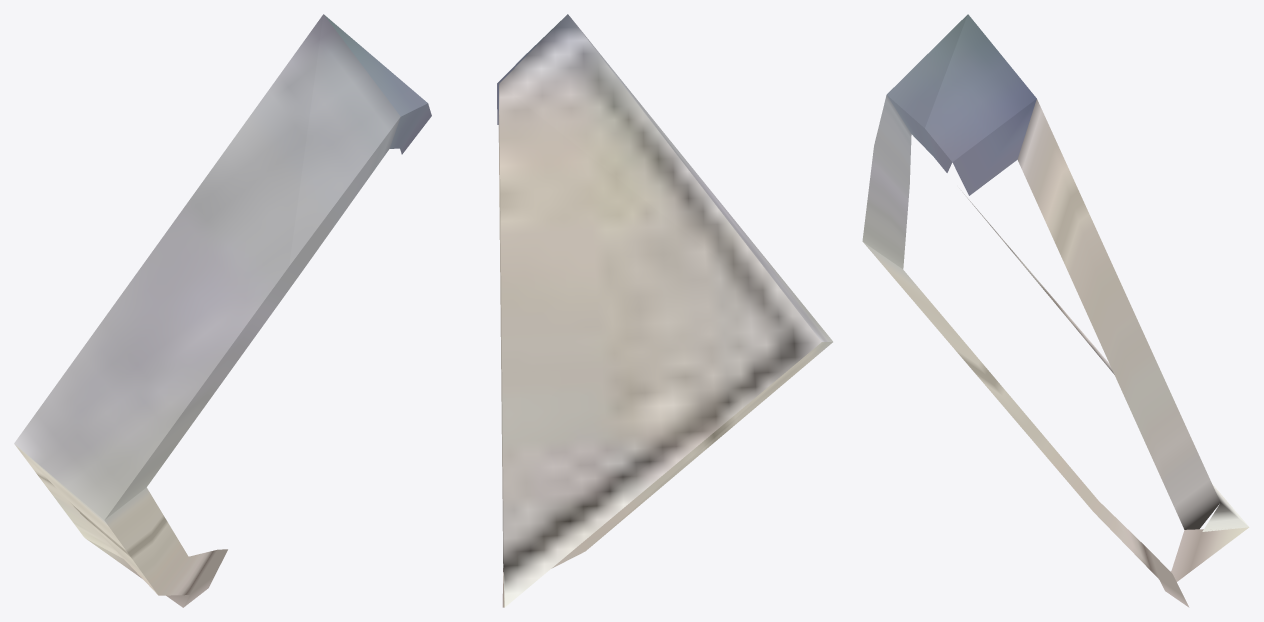
3 views of the same model, side by side, from view 1: azimuth 30°, elevation 25°; view 2: azimuth 150°, elevation 25°; view 3: azimuth 270°, elevation 25° (orthographic). The views are drawn at different scales.
Size of the model in its own units: 8.38 by 12.87 by 7.66.
Materials: 1 (1 with a texture image).
